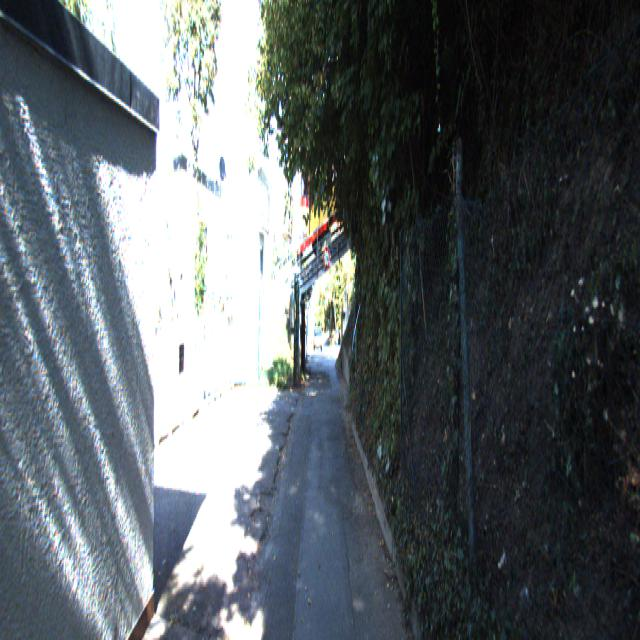Car: (314, 327, 322, 354)
